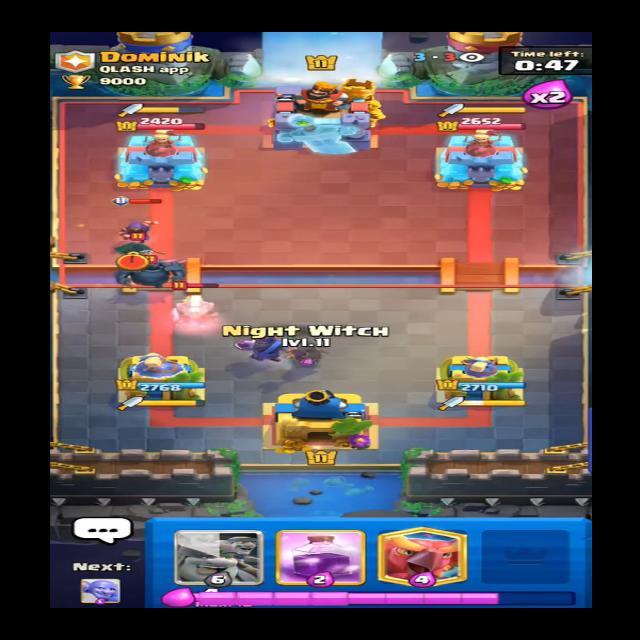Bandit: (114, 234, 168, 262)
Evowizard: (109, 198, 160, 242)
Pekka: (112, 252, 191, 294)
Royalghost: (162, 282, 230, 328)
